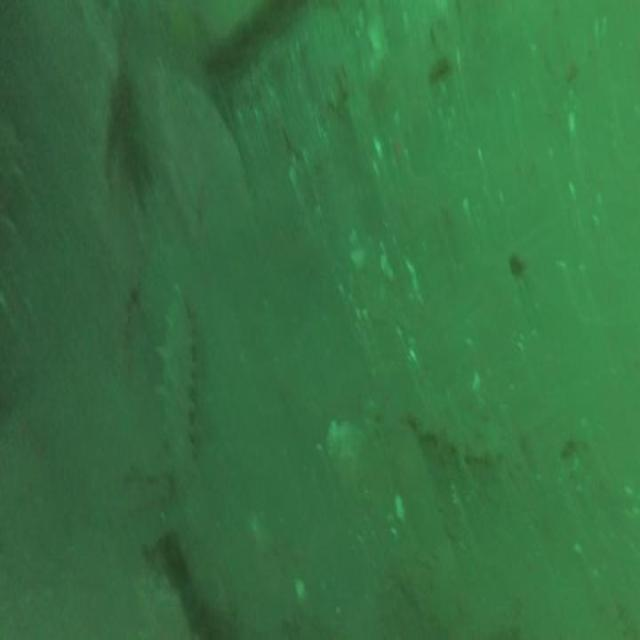holothurian: (396, 368, 508, 476), (148, 284, 206, 492)
